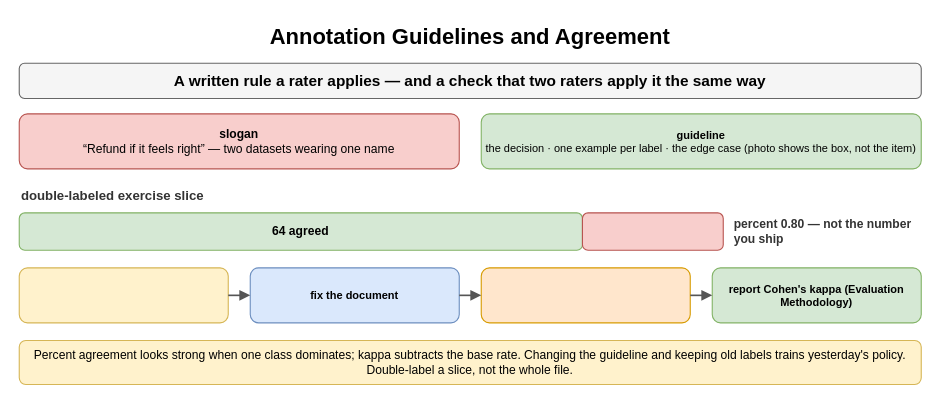
Some shapes in this 941 by 404 pixel diagram are drawn without their labels. The shapes that lost their labels are listed below. From the top down, each one's box as (x1, y1, x2, y2) in pixels, then its label:
(581, 212, 723, 250): 16 disagreed
(18, 267, 228, 323): read the 16 disagreements
(480, 267, 690, 323): relabel the rows the old wording touched
